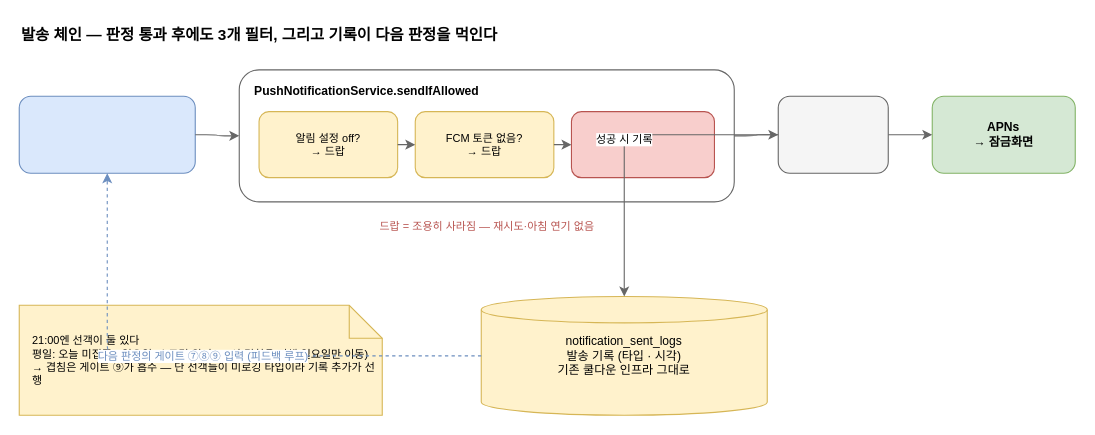
Some shapes in this 1095 by 435 pixel diagram are drawn without their labels. The shapes that lost their labels are listed below. From the top down, each one's centre as x and y in pixels, then its label:
the point at 106,134: 판정 통과 문구·숫자 확정
the point at 642,144: 조용한 시간 23~07? → 드랍 (연기 아님!)
the point at 832,134: FCM
